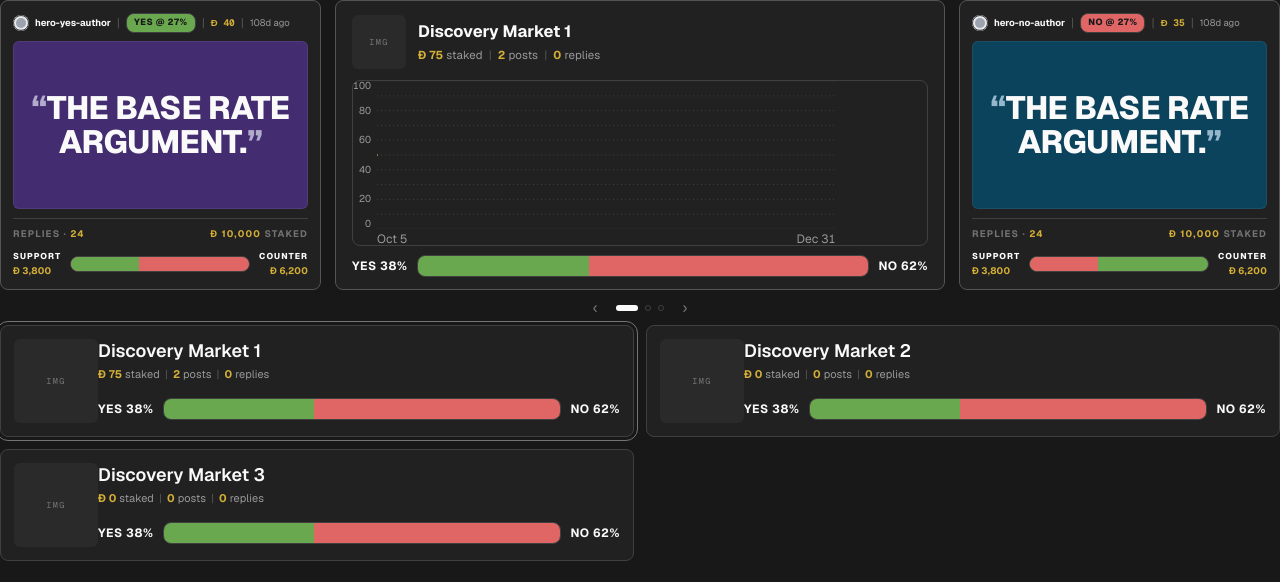
Test: UI.A4 §5 — DiscoveryCarousel (canon §5 motion) › render::arrows-advance-immediately-and-reset
Click the button "›".
click(685, 308)  # box [671,296,699,320]
Wait 10000 ms
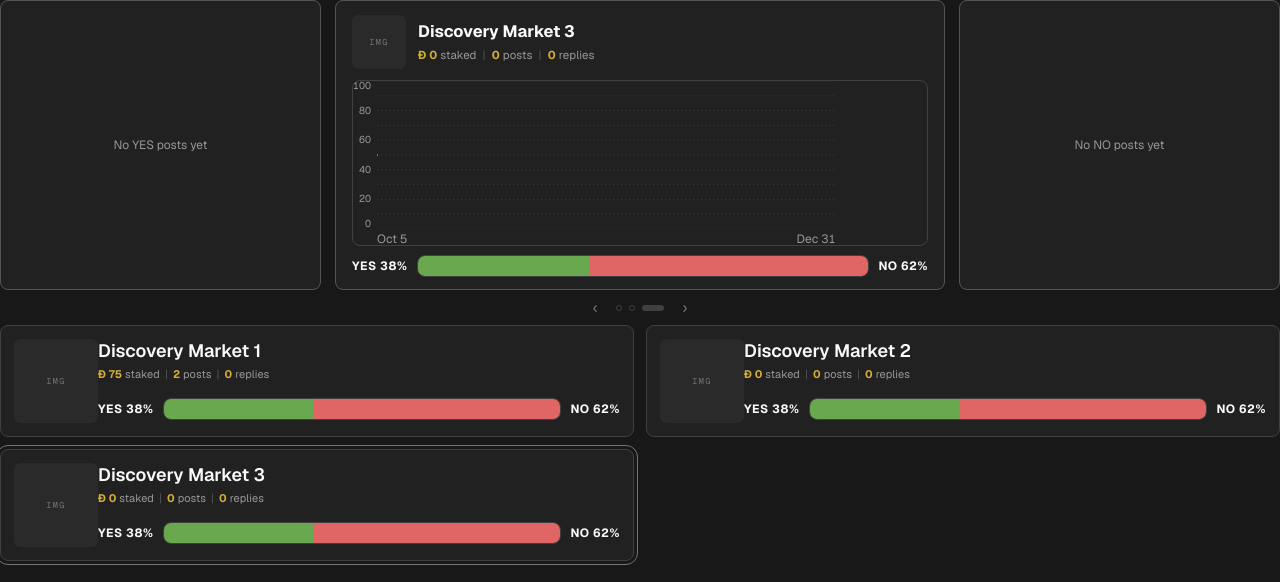
Click the button named "Previous market".
click(595, 308)  # box [581,296,609,320]
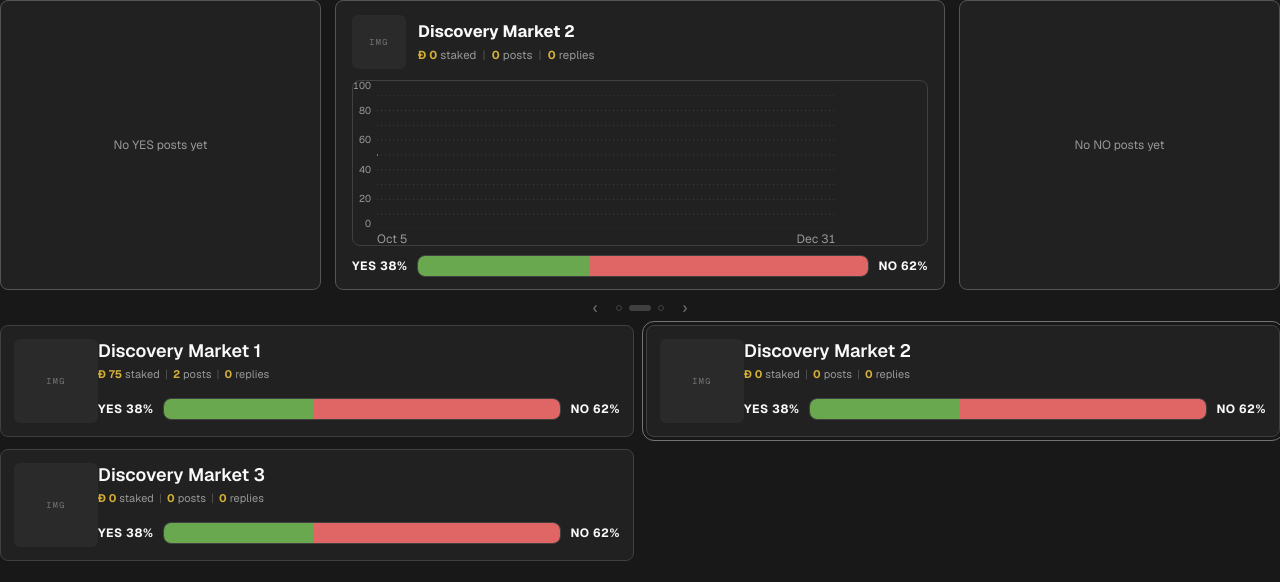
Click the button named "Previous market".
click(595, 308)  # box [581,296,609,320]
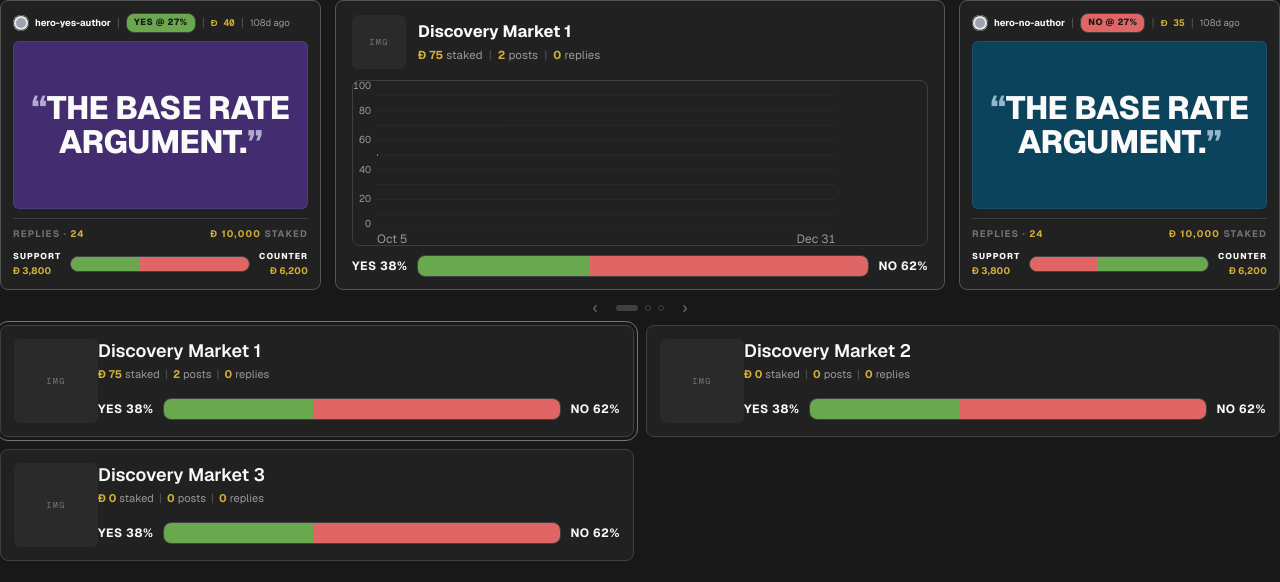
Check: the heading "Discovery Market 1" next to "hero-no-author" is shown, box [418,20,571,42]
